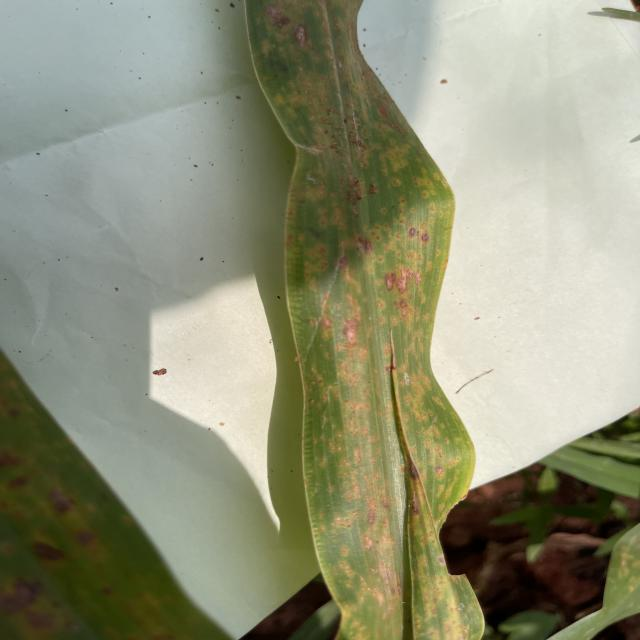millet_rust: (239, 0, 482, 640)
